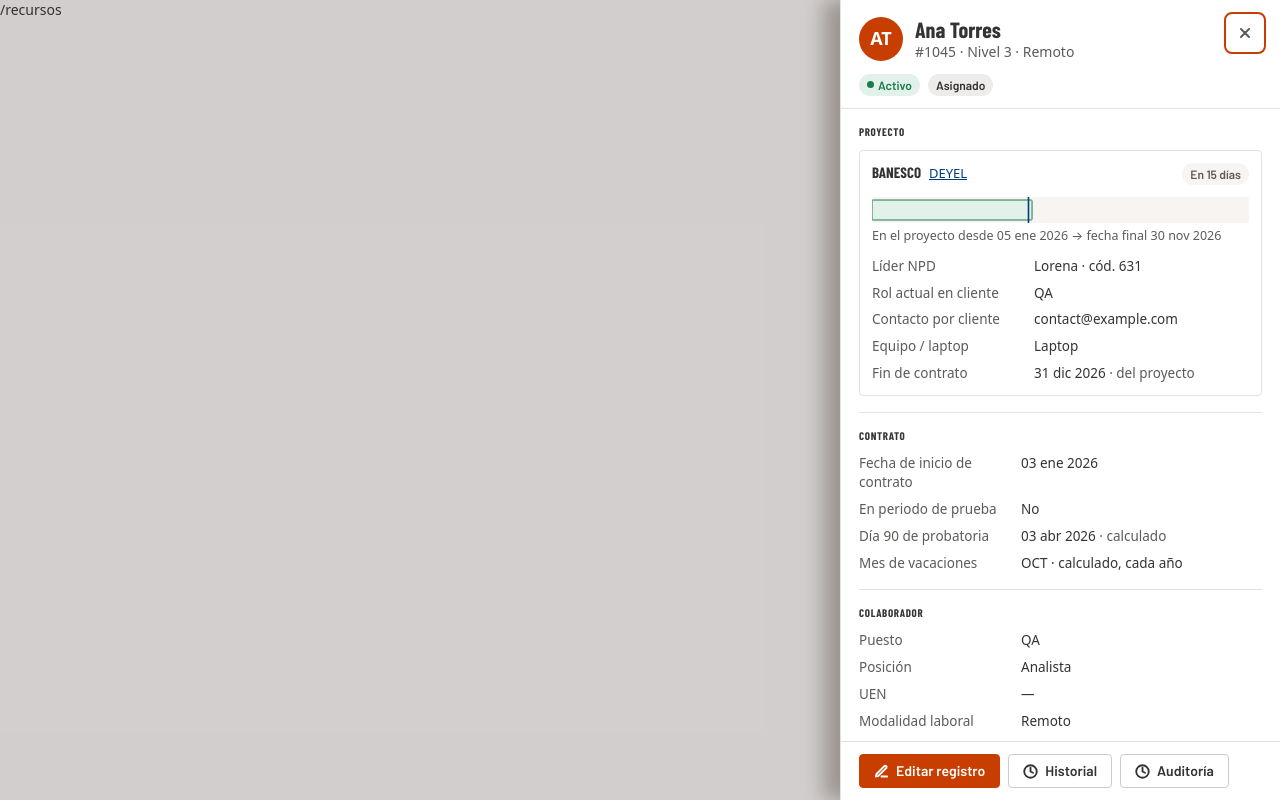
Test: ResourceDetailDrawer › navigates to the selected resource audit log
The width and height of the screenshot is (1280, 800).
Click the button "Auditoría": (1174, 771) [1120,754,1229,788]
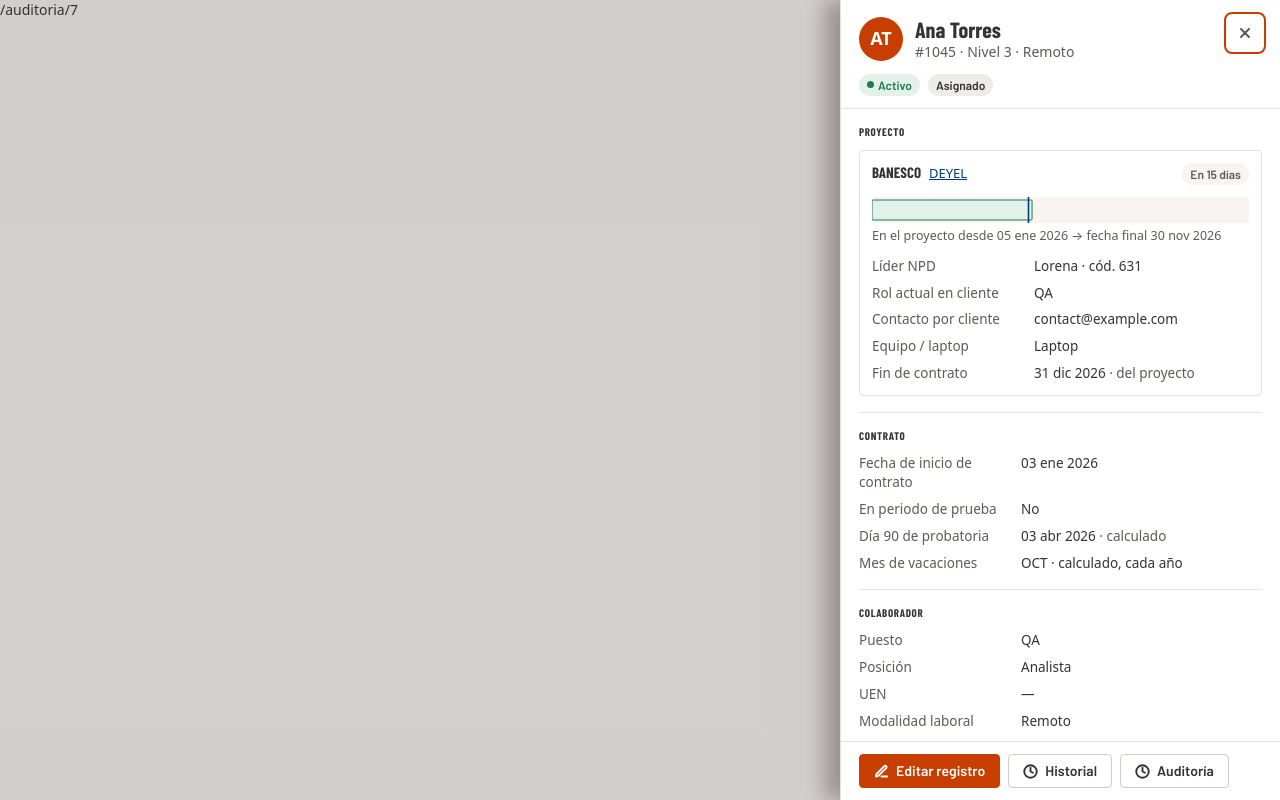
Expected: the text with test id "current-path" reads "/auditoria/7", [0,0,78,19]
